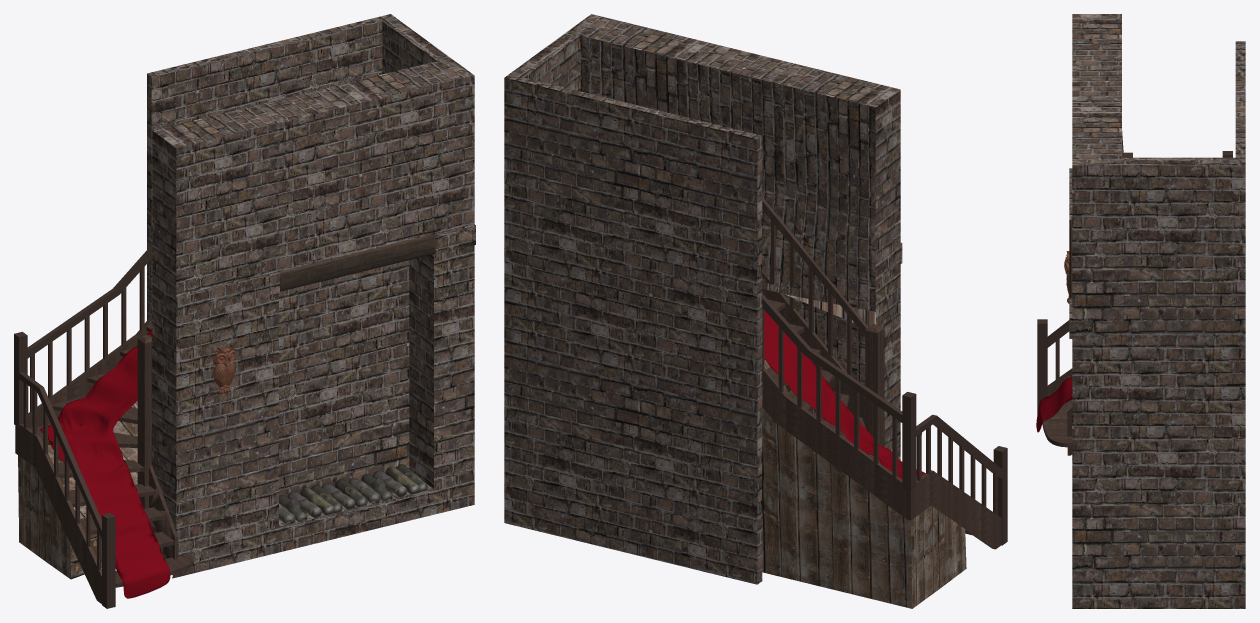
File: stairs.fbx
The picture shows the model from 3 angles, left to right: view 1: azimuth 30°, elevation 25°; view 2: azimuth 150°, elevation 25°; view 3: azimuth 270°, elevation 25°; orthographic projection. The views are drawn at different scales.
Parts seen in each view (by area): view 1: Cube, Layer0_001, Plane, Cube.002, Cube.001, Clock_Sova; view 2: Cube, Layer0_001, Cube.002, Plane; view 3: Cube, Layer0_001, Plane, Cube.001.
Part boxes in pixels (x1,y1,x2,y2): Cube: [147, 14, 475, 576]; Layer0_001: [14, 244, 193, 608]; Plane: [39, 328, 170, 598]; Cube.002: [18, 400, 137, 579]; Cube.001: [274, 235, 435, 291]; Clock_Sova: [213, 343, 235, 394]; Cube: [504, 14, 902, 584]; Layer0_001: [762, 197, 1007, 549]; Cube.002: [762, 360, 966, 608]; Plane: [764, 310, 925, 479]; Cube: [1069, 14, 1245, 608]; Layer0_001: [1037, 151, 1232, 455]; Plane: [1036, 376, 1072, 432]; Cube.001: [1069, 217, 1072, 298].
Bounding box in the file's own units: 329 × 351 × 150.
